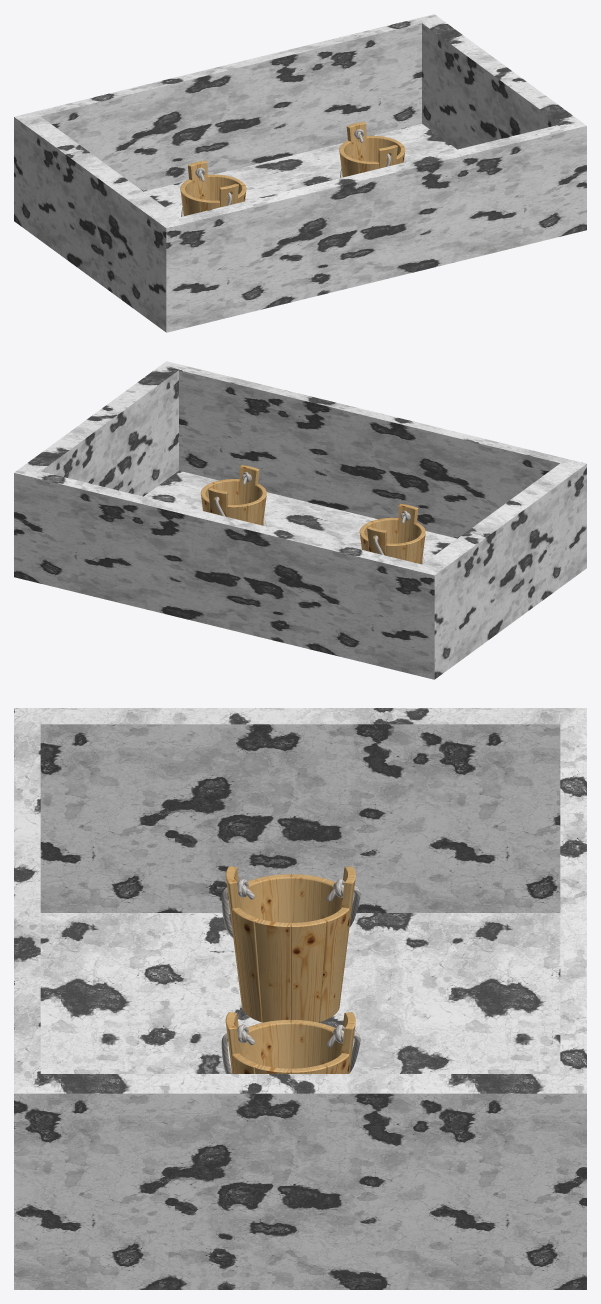
File: FULL-ROOM_BATH-ROOM_23-10.gltf
3 views of the same model, one above another, from view 1: azimuth 30°, elevation 25°; view 2: azimuth 150°, elevation 25°; view 3: azimuth 270°, elevation 25° (orthographic). The views are drawn at different scales.
Parts seen in each view (by area): view 1: Cube.002, WoodenBucket_WoodenBucket_0, WoodenBucket_WoodenBucket_0.001; view 2: Cube.002, WoodenBucket_WoodenBucket_0.001, WoodenBucket_WoodenBucket_0; view 3: Cube.002, WoodenBucket_WoodenBucket_0, WoodenBucket_WoodenBucket_0.001.
Part boxes in pixels (x1,y1,x2,y2): Cube.002: (14, 14, 586, 332); WoodenBucket_WoodenBucket_0: (180, 160, 246, 216); WoodenBucket_WoodenBucket_0.001: (339, 122, 405, 177); Cube.002: (14, 361, 586, 679); WoodenBucket_WoodenBucket_0.001: (200, 465, 266, 526); WoodenBucket_WoodenBucket_0: (359, 504, 425, 564); Cube.002: (14, 708, 586, 1289); WoodenBucket_WoodenBucket_0: (221, 866, 360, 1022); WoodenBucket_WoodenBucket_0.001: (221, 1012, 360, 1073).
Size of the model in its own units: 2.06 by 0.4941 by 1.3.
2 materials, 2 textured.
